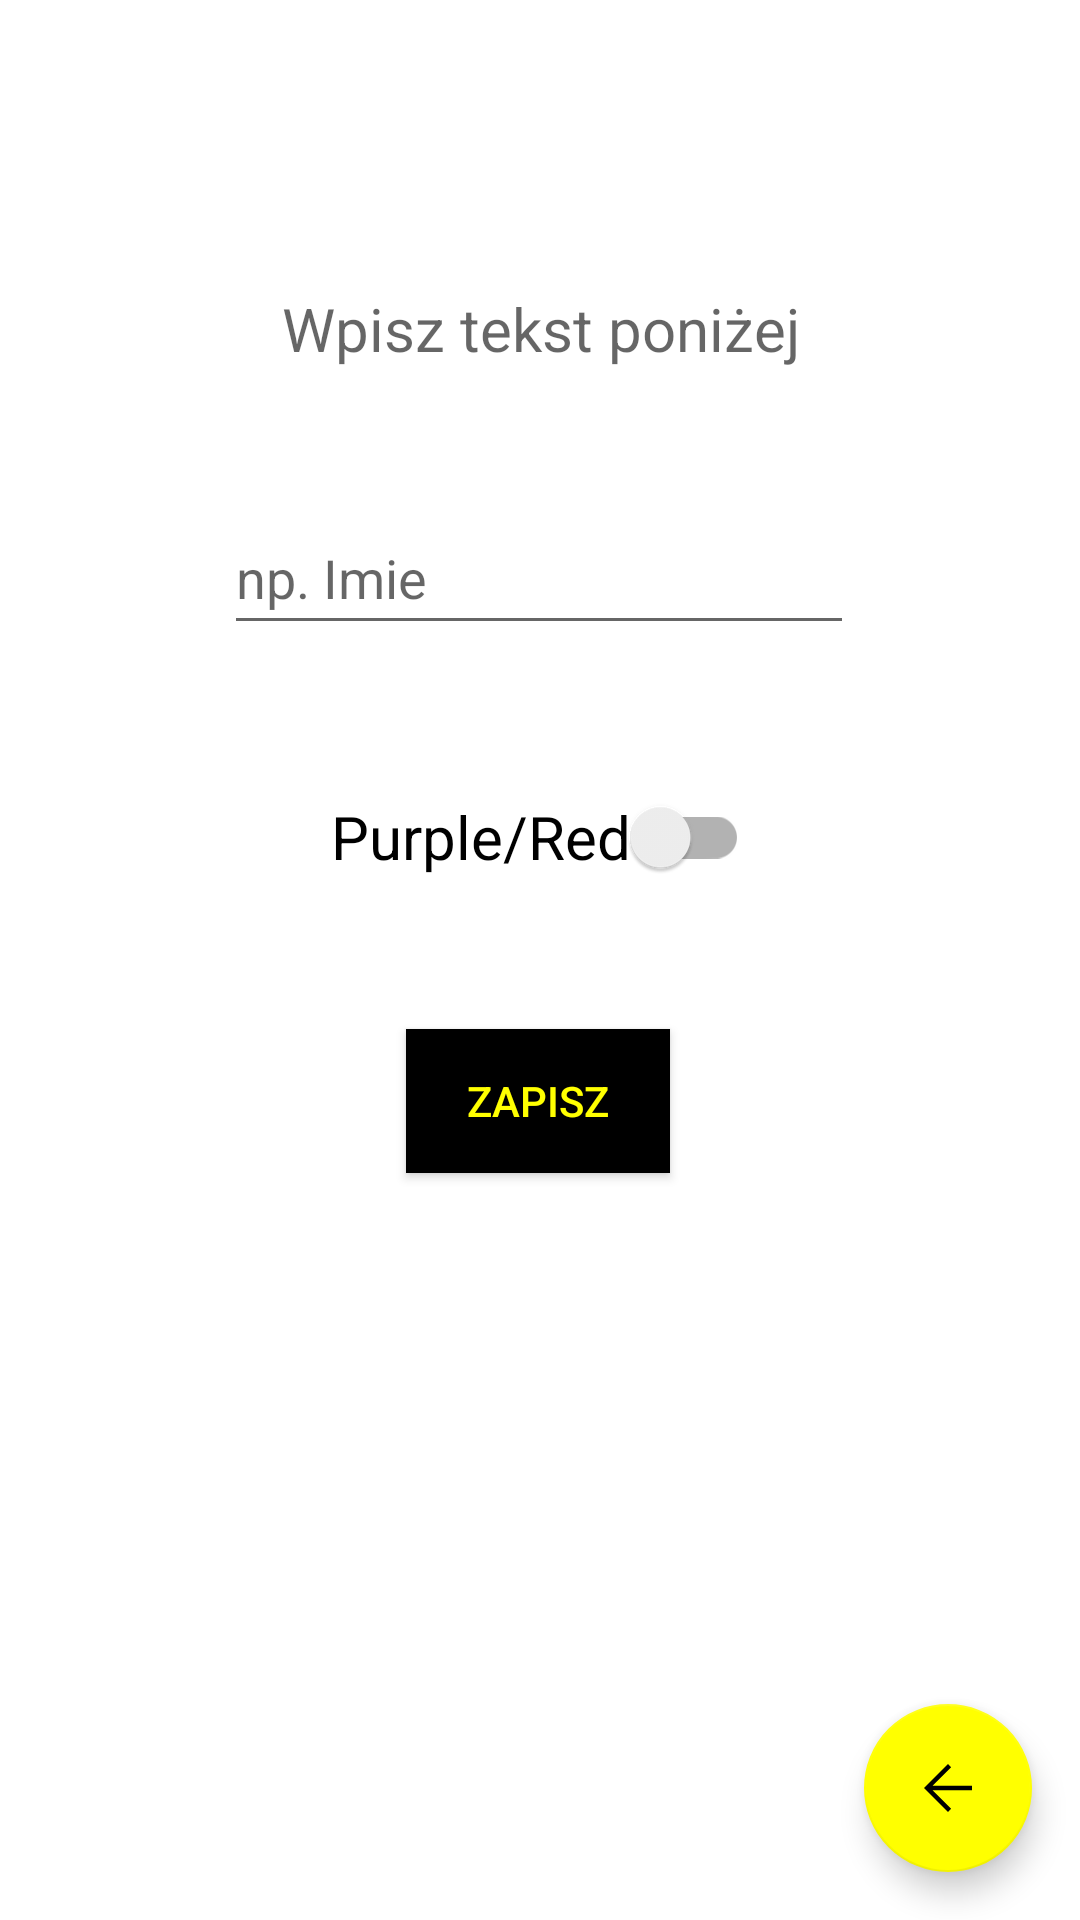

Icon bounding boxes for this 1080 x 1920 phone screenshot, format (left=x1, top=y1, right=x2, bottom=y2):
arrow back: (left=864, top=1704, right=1032, bottom=1872)
